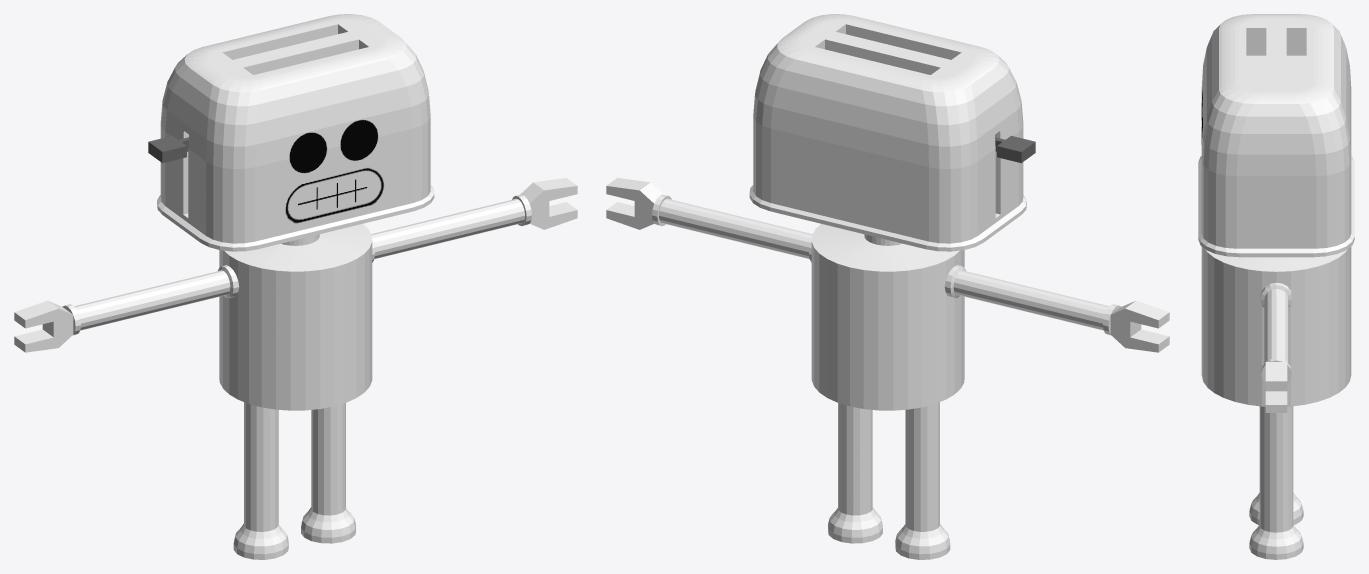
File: toasterbot.dae
3 renders of one model, left to right at view 1: azimuth 30°, elevation 25°; view 2: azimuth 150°, elevation 25°; view 3: azimuth 270°, elevation 25°, orthographic. The views are drawn at different scales.
Visible parts, largest first — view 1: ToasterBody, ToasterHandle; view 2: ToasterBody, ToasterHandle; view 3: ToasterBody.
Boxes of the visible parts, bbox=[...] form: ToasterBody: bbox=[14, 14, 577, 559]; ToasterHandle: bbox=[148, 135, 188, 163]; ToasterBody: bbox=[606, 14, 1169, 559]; ToasterHandle: bbox=[995, 135, 1035, 163]; ToasterBody: bbox=[1198, 14, 1354, 559].
Size of the model in its own units: 8.32 by 2.09 by 7.05.
Materials: 2 (1 with a texture image).
